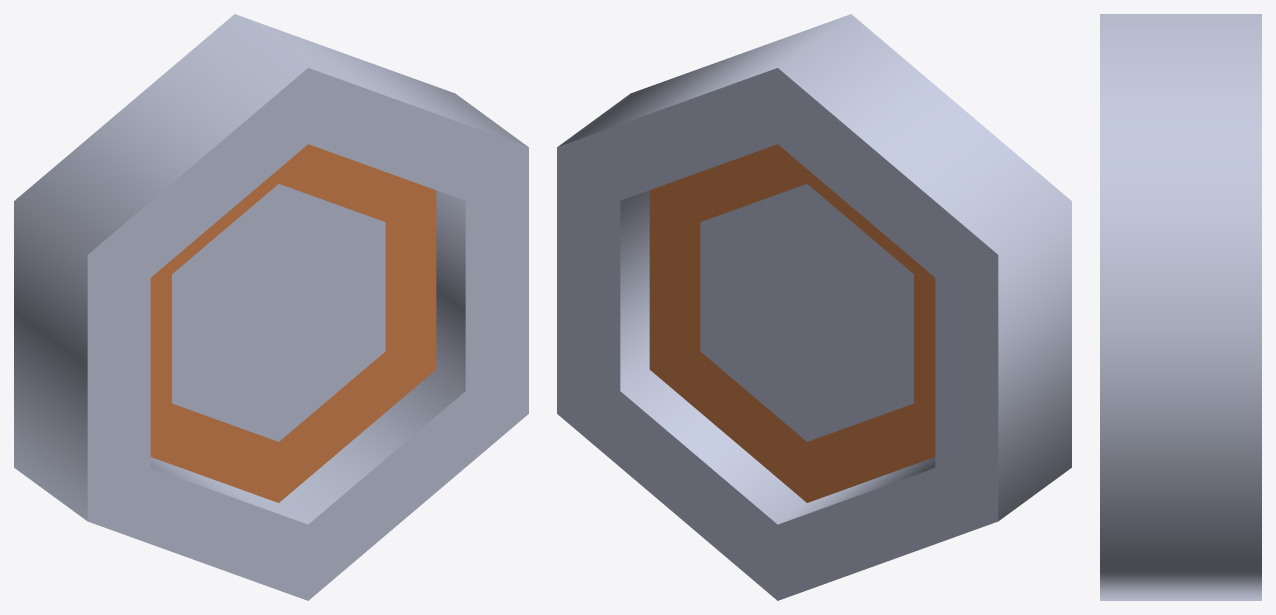
Rendered from coinSilver.fbx.
3 renders of one model, left to right at view 1: azimuth 30°, elevation 25°; view 2: azimuth 150°, elevation 25°; view 3: azimuth 270°, elevation 25°, orthographic. The views are drawn at different scales.
Visible parts, largest first — view 1: coinSilver; view 2: coinSilver; view 3: coinSilver.
Part boxes in pixels (<box>): coinSilver: <box>14,14,528,600</box>; coinSilver: <box>557,14,1071,600</box>; coinSilver: <box>1100,14,1261,600</box>.
Size of the model in its own units: 3.46 by 4 by 1.
